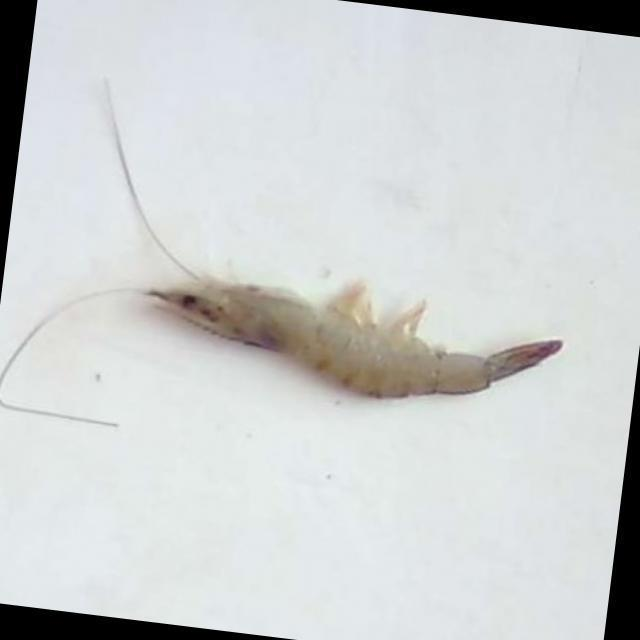shrimp: (147, 280, 562, 398)
